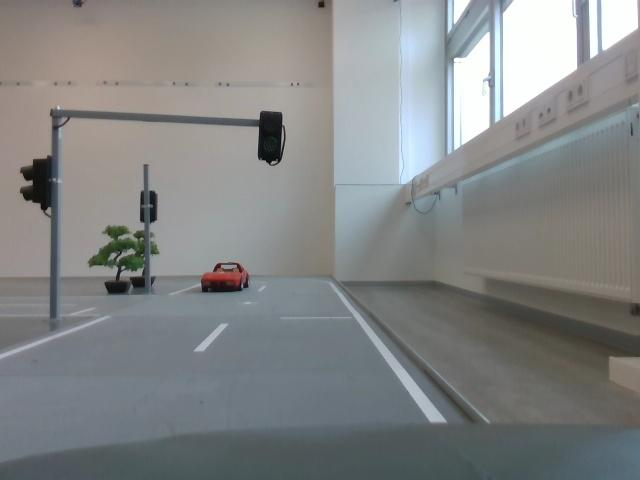car: (202, 262, 253, 295)
potted plant: (88, 230, 141, 296), (129, 229, 162, 297)
traffic light: (17, 144, 65, 218), (258, 109, 285, 169), (140, 190, 164, 226)
